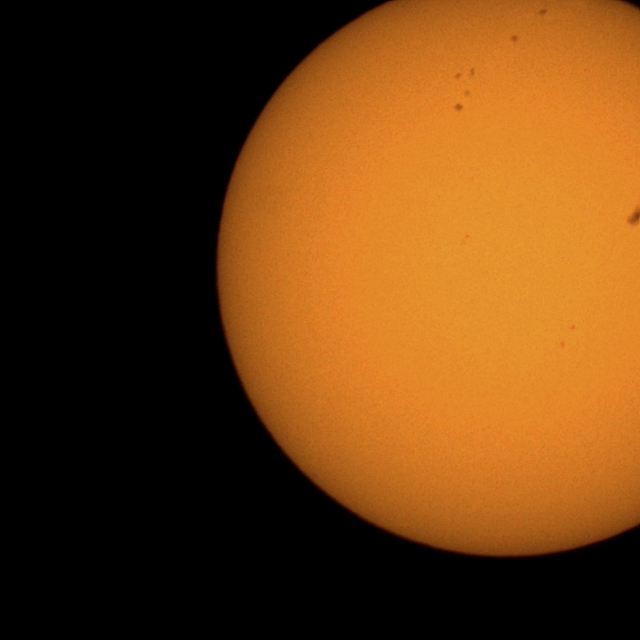sunspot: (453, 66, 476, 104), (624, 204, 640, 229), (509, 34, 519, 44), (453, 103, 464, 112), (570, 323, 576, 331)
